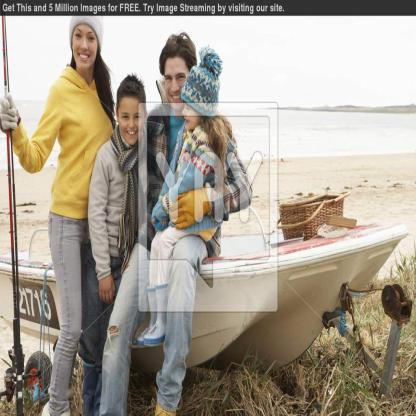face: (165, 57, 191, 110), (119, 98, 145, 146), (74, 19, 98, 70), (184, 92, 204, 130)
